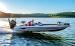fishing boat: (6, 15, 71, 35)
